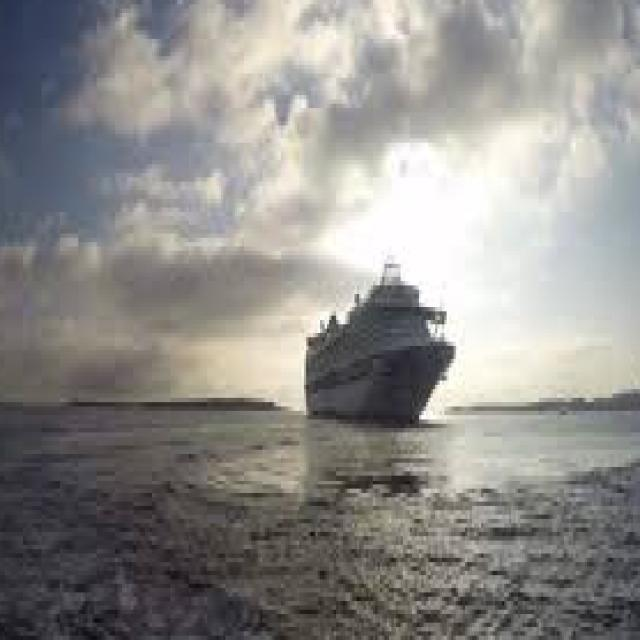passenger ship: (297, 256, 457, 425)
